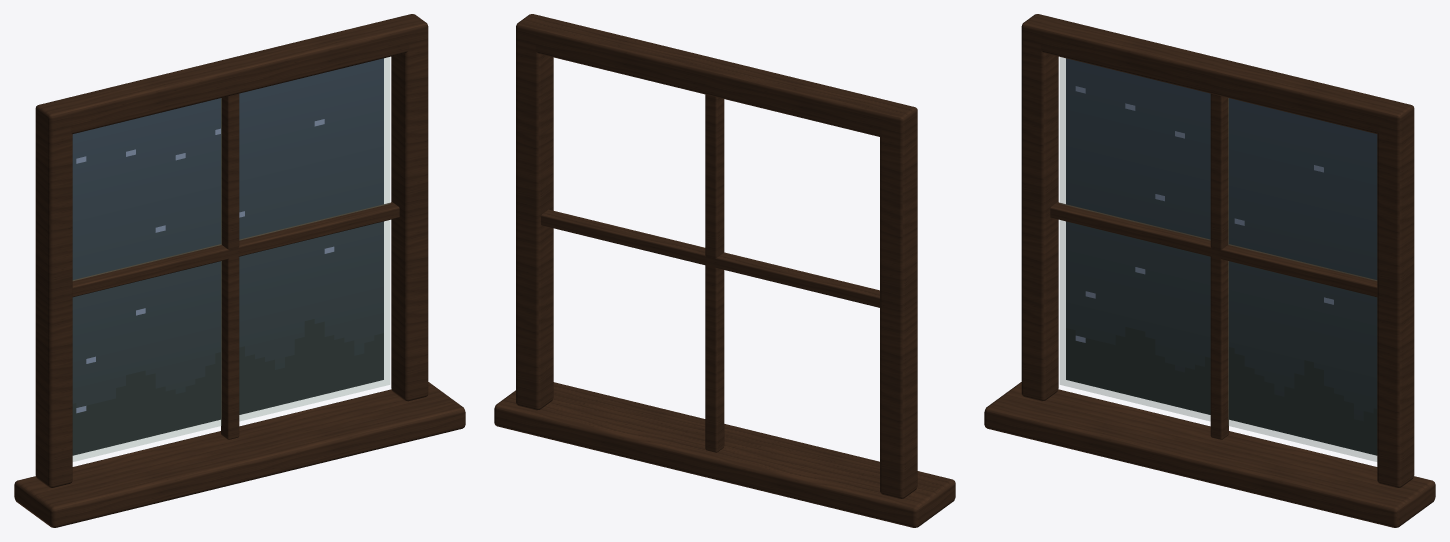
Rendered from window_v2.glb.
The picture shows the model from 3 angles, left to right: view 1: azimuth 30°, elevation 25°; view 2: azimuth 150°, elevation 25°; view 3: azimuth 330°, elevation 25°; orthographic projection. The views are drawn at different scales.
Visible parts, largest first — view 1: window_v2; view 2: window_v2; view 3: window_v2.
Part boxes in pixels (box(x1,y1,x2,y2)): window_v2: box(14, 14, 465, 527); window_v2: box(494, 14, 955, 527); window_v2: box(984, 14, 1435, 527).
Bounding box in the file's own units: 1.2 × 1.1 × 0.2002.
Materials: 3 (2 with a texture image).
